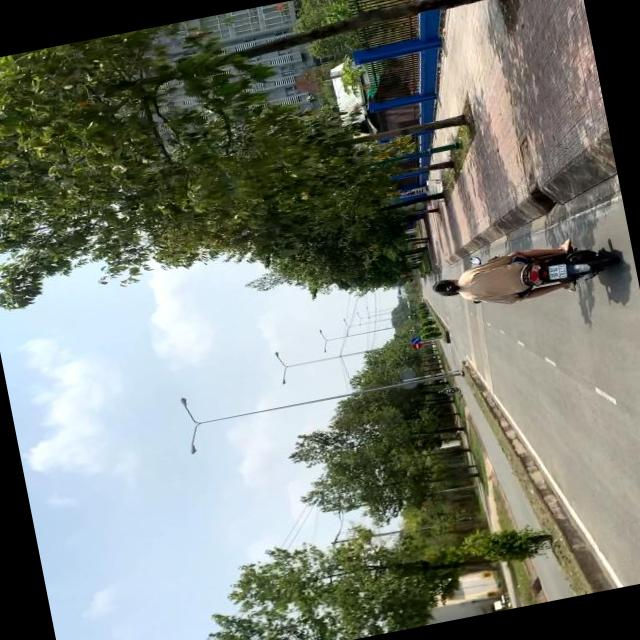P-102: (410, 341, 424, 349)
R-302a: (409, 336, 422, 344)
